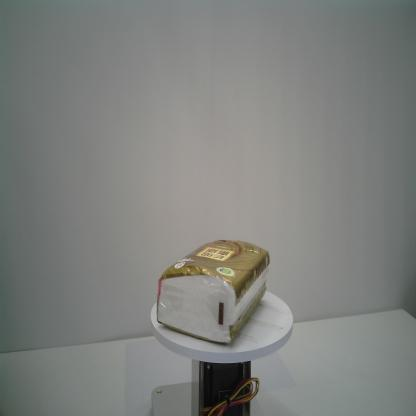Tissue: (156, 239, 270, 345)
